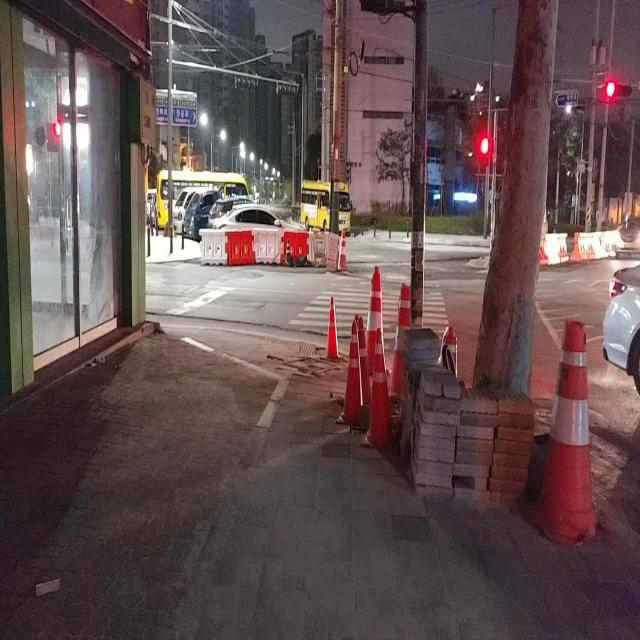횡단보도: (287, 270, 450, 341)
